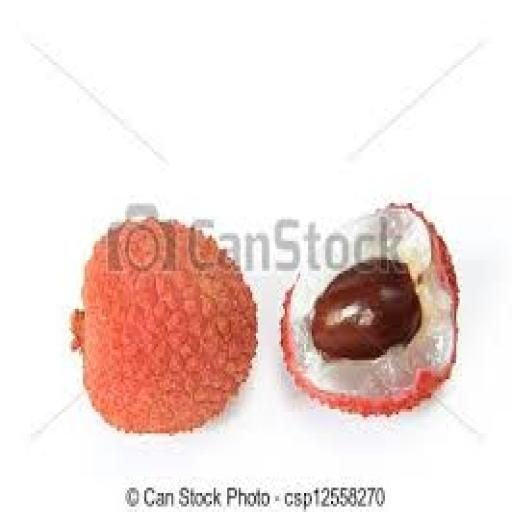lychee: (72, 220, 255, 433), (282, 206, 458, 414)
